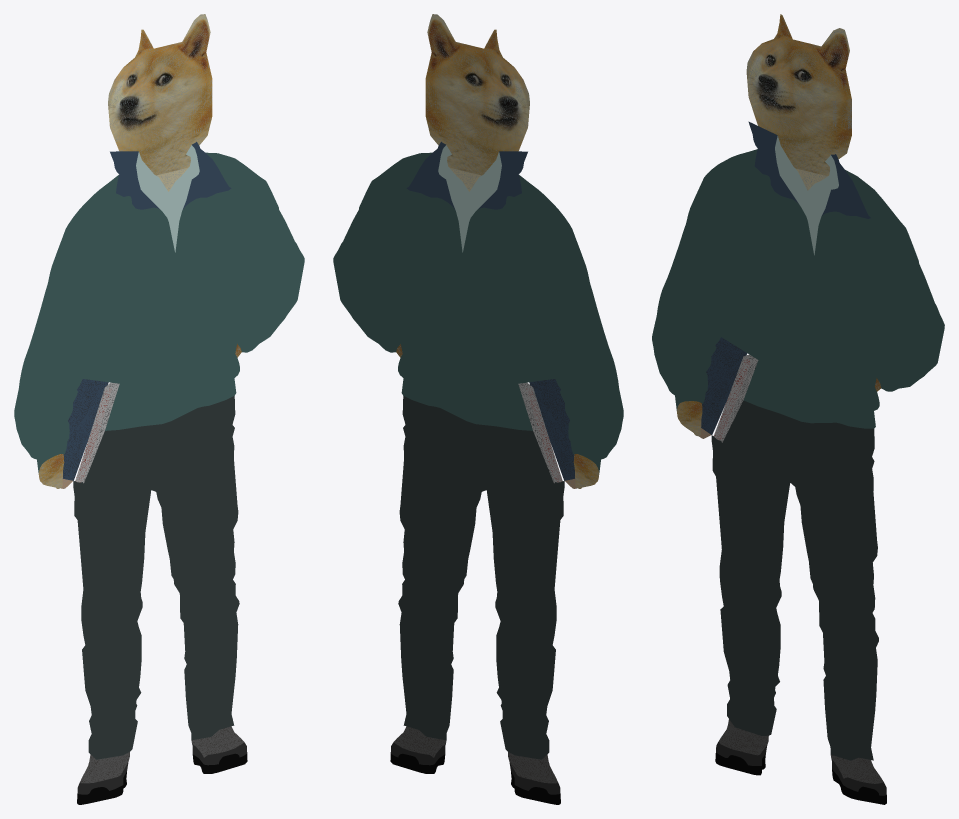
3 renders of one model, left to right at view 1: azimuth 30°, elevation 25°; view 2: azimuth 150°, elevation 25°; view 3: azimuth 330°, elevation 25°, orthographic.
Parts seen in each view (by area): view 1: SketchUp (×14); view 2: SketchUp (×14); view 3: SketchUp (×14).
Part boxes in pixels (x1,y1,x2,y2): SketchUp (×14): (14,14,304,804); SketchUp (×14): (333,14,623,804); SketchUp (×14): (652,14,944,804).
Bounding box in the file's own units: 27.38 × 1.37e-12 × 68.64.
13 materials, 1 textured.
